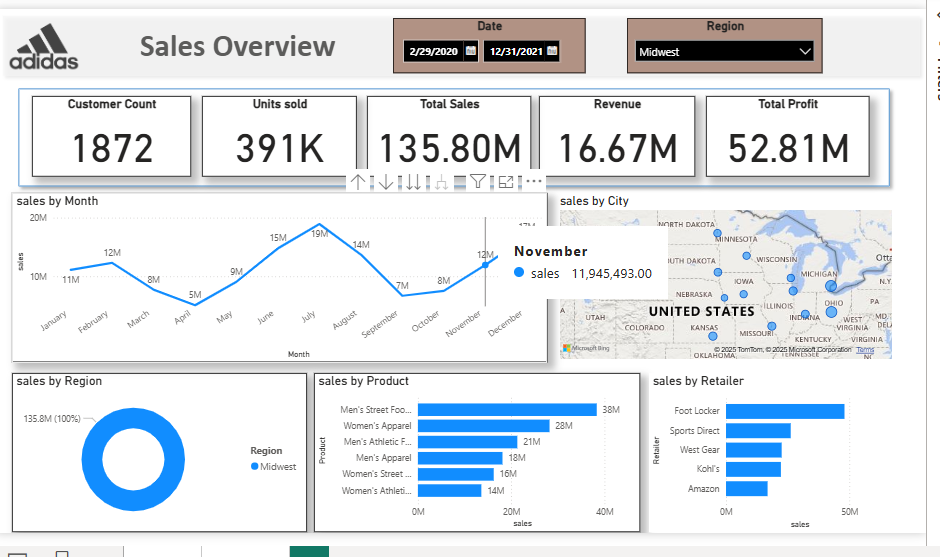

The dashboard page shown, as its layout file describes it:
{"tool":"powerbi","page":{"name":"Report","canvas":[1280,720],"ordinal":0},"visuals":[{"type":"textbox","box":[120,19,425.9,64.4],"z":0},{"type":"image","box":[13.2,11.7,106.8,77.6],"z":1000},{"type":"shape","box":[0,0,1280.5,101],"z":2000},{"type":"slicer","title":"Date","fields":{"Values":["Data Sales Adidas.Invoice Date"]},"box":[545.9,11.7,264.9,76.1],"z":3000},{"type":"slicer","title":"Region","fields":{"Values":["Data Sales Adidas.Region"]},"box":[867.8,11.7,269.3,76.1],"z":4000},{"type":"card","title":"Customer Count","fields":{"Values":["Data Sales Adidas.count"]},"box":[24.5,116.6,218.9,110.9],"z":5000},{"type":"shape","box":[21.6,100.8,1216.8,152.6],"z":6000},{"type":"card","title":"Customer Count","fields":{"Values":["Data Sales Adidas.count"]},"box":[49,119.5,218.9,110.9],"z":7000},{"type":"card","title":"Total Sales","fields":{"Values":["Data Sales Adidas.sales"]},"box":[511.2,119.5,226.1,110.9],"z":8000},{"type":"card","title":"Units sold","fields":{"Values":["Sum(Data Sales Adidas.Units Sold)"]},"box":[283.7,119.5,213.1,110.9],"z":9000},{"type":"card","title":"Revenue","fields":{"Values":["Data Sales Adidas.revenue"]},"box":[747.4,119.5,214.6,110.9],"z":10000},{"type":"card","title":"Total Profit","fields":{"Values":["Data Sales Adidas.total profit"]},"box":[977.8,119.5,224.6,110.9],"z":11000},{"type":"donutChart","fields":{"Y":["Data Sales Adidas.sales"],"Category":["Data Sales Adidas.Region"]},"box":[21.6,501.1,406.1,218.9],"z":12000},{"type":"map","fields":{"Size":["Data Sales Adidas.sales"],"Category":["Data Sales Adidas.City"]},"box":[770.4,253.4,468,233.3],"z":13000},{"type":"lineChart","fields":{"Category":["Data Sales Adidas.Invoice Date.Variation.Date Hierarchy.Year","Data Sales Adidas.Invoice Date.Variation.Date Hierarchy.Quarter","Data Sales Adidas.Invoice Date.Variation.Date Hierarchy.Month","Data Sales Adidas.Invoice Date.Variation.Date Hierarchy.Day"],"Y":["Data Sales Adidas.sales"]},"box":[21.6,253.4,737.3,233.3],"z":14000},{"type":"clusteredBarChart","fields":{"Category":["Data Sales Adidas.Product"],"Y":["Data Sales Adidas.sales"]},"box":[437.8,501.1,449.3,218.9],"z":15000},{"type":"clusteredBarChart","fields":{"Y":["Data Sales Adidas.sales"],"Category":["Data Sales Adidas.Retailer"]},"box":[898.6,501.1,326.9,218.9],"z":16000}]}

Visuals, with their boxes on the page's 1280x720 design canvas (x1, y1, x2, y2). These are canvas units, not pixel positions in the 940x557 screenshot, which may show the page scaled, cropped or inside an application window:
textbox: 120:19:546:83
image: 13:12:120:89
shape: 0:0:1280:101
"Date" slicer: 546:12:811:88
"Region" slicer: 868:12:1137:88
"Customer Count" card: 24:117:243:228
shape: 22:101:1238:253
"Customer Count" card: 49:120:268:230
"Total Sales" card: 511:120:737:230
"Units sold" card: 284:120:497:230
"Revenue" card: 747:120:962:230
"Total Profit" card: 978:120:1202:230
donutChart - Data Sales Adidas.sales x Data Sales Adidas.Region: 22:501:428:720
map - Data Sales Adidas.sales x Data Sales Adidas.City: 770:253:1238:487
lineChart - Data Sales Adidas.Invoice Date.Variation.Date Hierarchy.Year x Data Sales Adidas.Invoice Date.Variation.Date Hierarchy.Quarter: 22:253:759:487
clusteredBarChart - Data Sales Adidas.Product x Data Sales Adidas.sales: 438:501:887:720
clusteredBarChart - Data Sales Adidas.sales x Data Sales Adidas.Retailer: 899:501:1226:720
